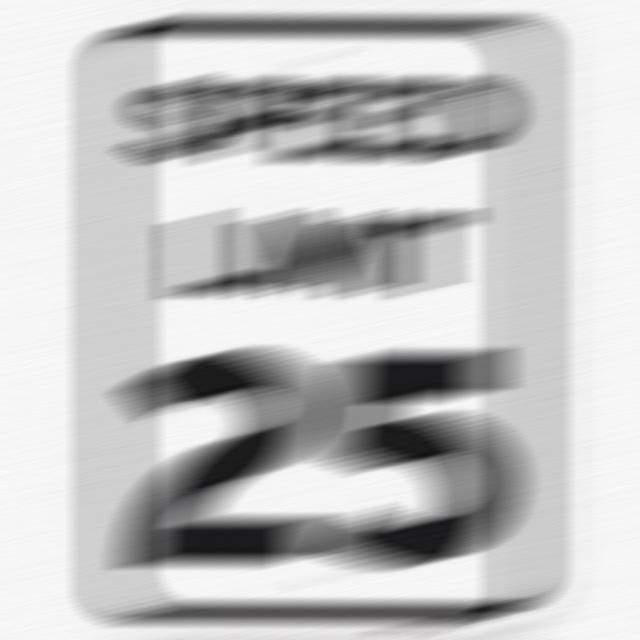speedLimit25: (87, 14, 558, 619)
